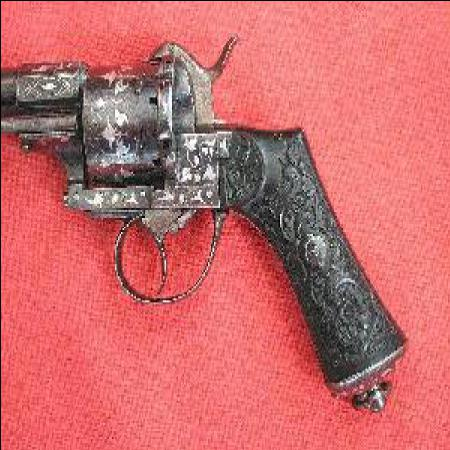Pistol: (1, 28, 406, 412)
